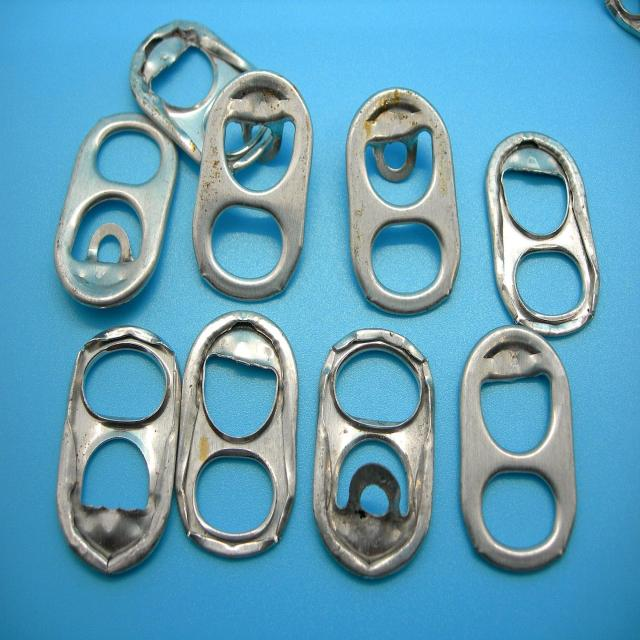pop tab: (54, 324, 182, 578), (173, 308, 302, 559), (311, 328, 437, 582), (459, 323, 577, 575), (190, 70, 314, 302), (344, 87, 461, 317), (52, 111, 179, 312), (483, 128, 602, 338), (130, 18, 282, 164)
